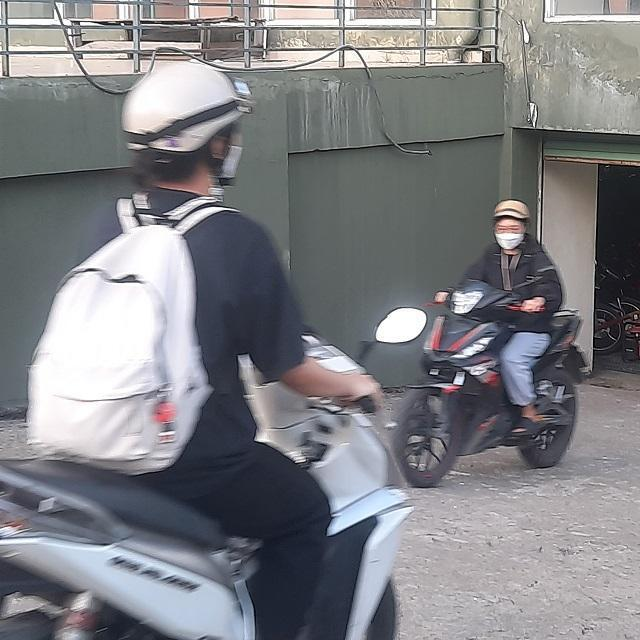Helmet: (122, 62, 254, 186), (494, 198, 530, 250)
